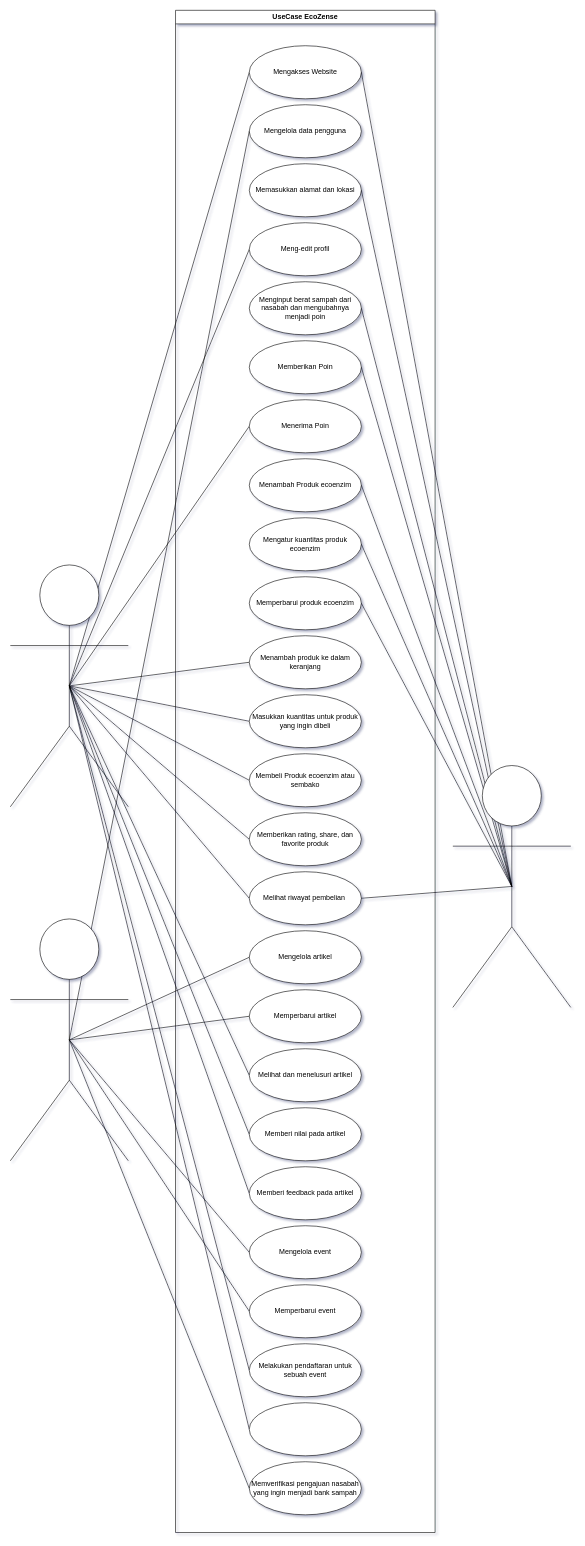
Some shapes in this 585 by 1546 pixel diagram are drawn without their labels. Here are the shapes that lost their labels. From the top down, the centre of each, then its label:
At pixel 69 685: "Nasabah".
At pixel 511 886: "Pengelola Bank Sampah".
At pixel 69 1039: "Admin".
At pixel 305 1429: "Mengajukan diri untuk menjadi pengelola bank sampah".
